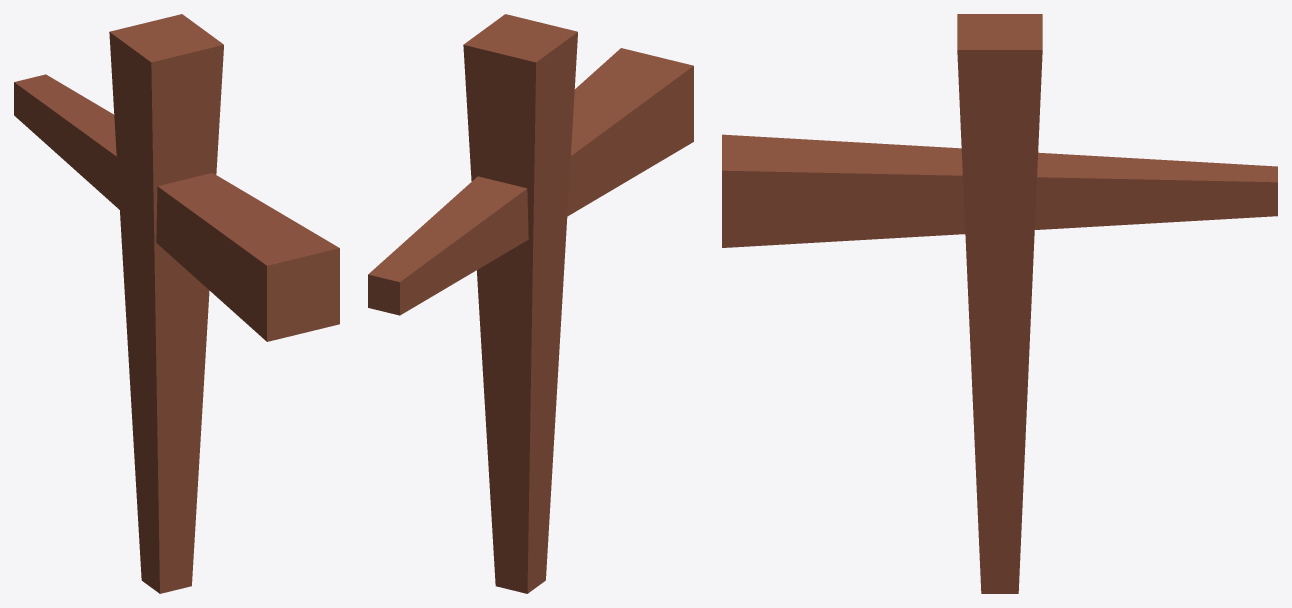
Rendered from cross.fbx.
3 renders of one model, left to right at view 1: azimuth 30°, elevation 25°; view 2: azimuth 150°, elevation 25°; view 3: azimuth 270°, elevation 25°, orthographic.
Parts seen in each view (by area): view 1: Cross; view 2: Cross; view 3: Cross.
Part boxes in pixels (x1,y1,x2,y2): Cross: [14, 14, 339, 593]; Cross: [368, 14, 693, 593]; Cross: [722, 14, 1277, 593].
Bounding box in the file's own units: 296 × 2118 × 1926.
